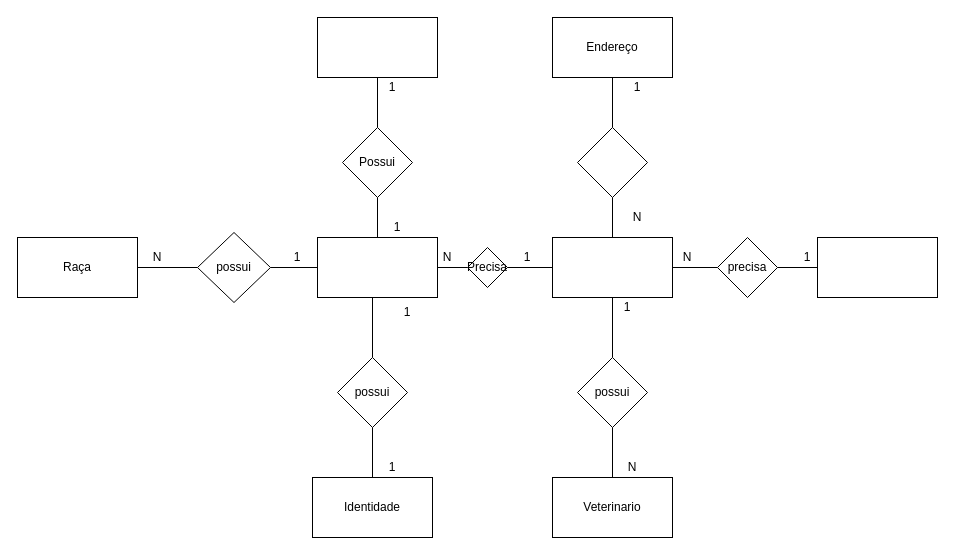
Some shapes in this 955 by 555 pixel diagram are drawn without their labels. Here are the shapes that lost their labels. From the top down, the centre of each, then its label:
the point at 377,47: Dono
the point at 612,162: contem
the point at 377,267: Pet
the point at 612,267: Clinica veterinaria
the point at 877,267: Cadastro
